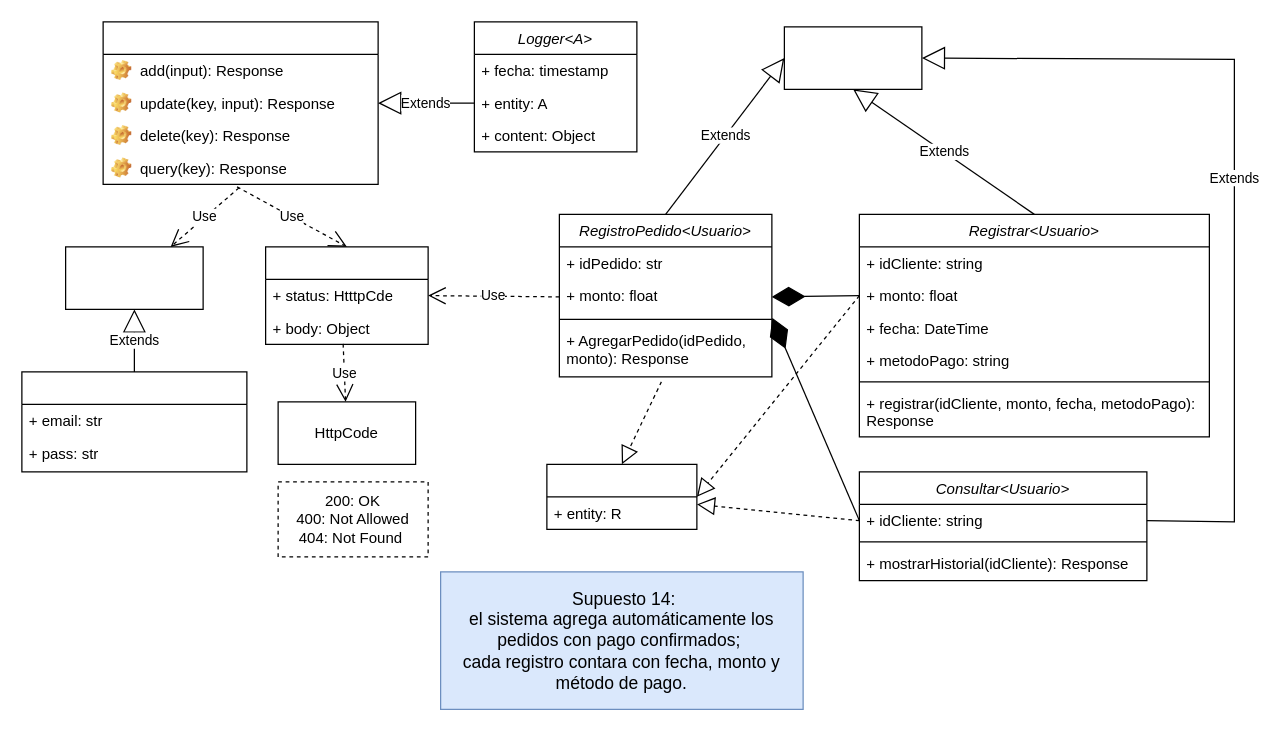
This 1281x731 diagram has some shape labels left out. The box of each missing label's shape, as (x1, y1, x2, y2) in pixels:
ICRUD<E>: (102, 21, 378, 184)
ICRUDA<R>: (546, 463, 697, 529)
Response: (264, 246, 428, 344)
Usuarioinput: (21, 371, 247, 472)
«interface» ICRUD: (783, 26, 922, 89)
«interface» input: (64, 246, 203, 309)
